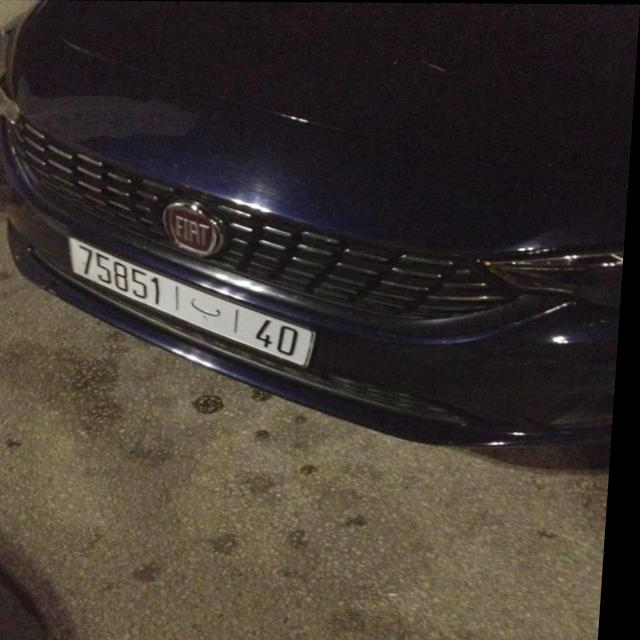License-Plate: (73, 238, 319, 365)
